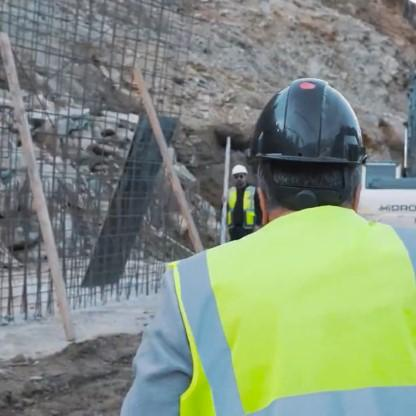helmet: (246, 82, 380, 235), (227, 165, 250, 187)
